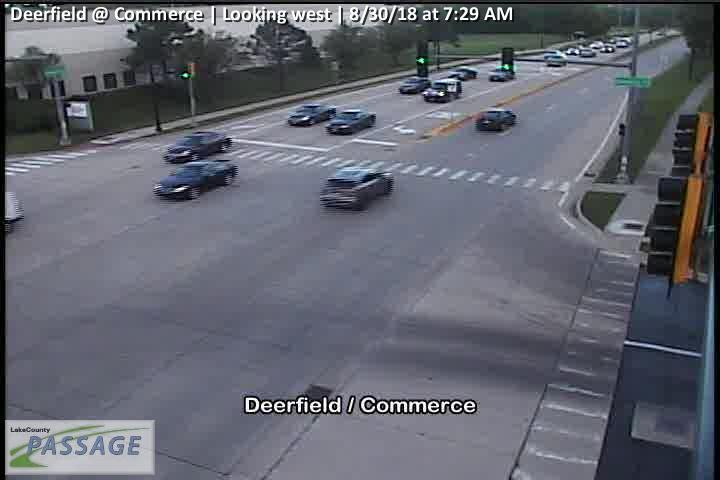Sedan: (153, 159, 239, 201), (319, 168, 393, 212), (162, 131, 232, 162), (324, 109, 378, 136), (287, 103, 336, 127), (476, 108, 516, 132), (419, 80, 461, 102), (398, 76, 430, 93), (448, 66, 476, 81), (546, 54, 568, 68), (487, 69, 510, 82), (541, 48, 560, 61), (580, 47, 594, 57), (599, 44, 613, 51), (616, 39, 628, 47), (565, 47, 577, 54)
